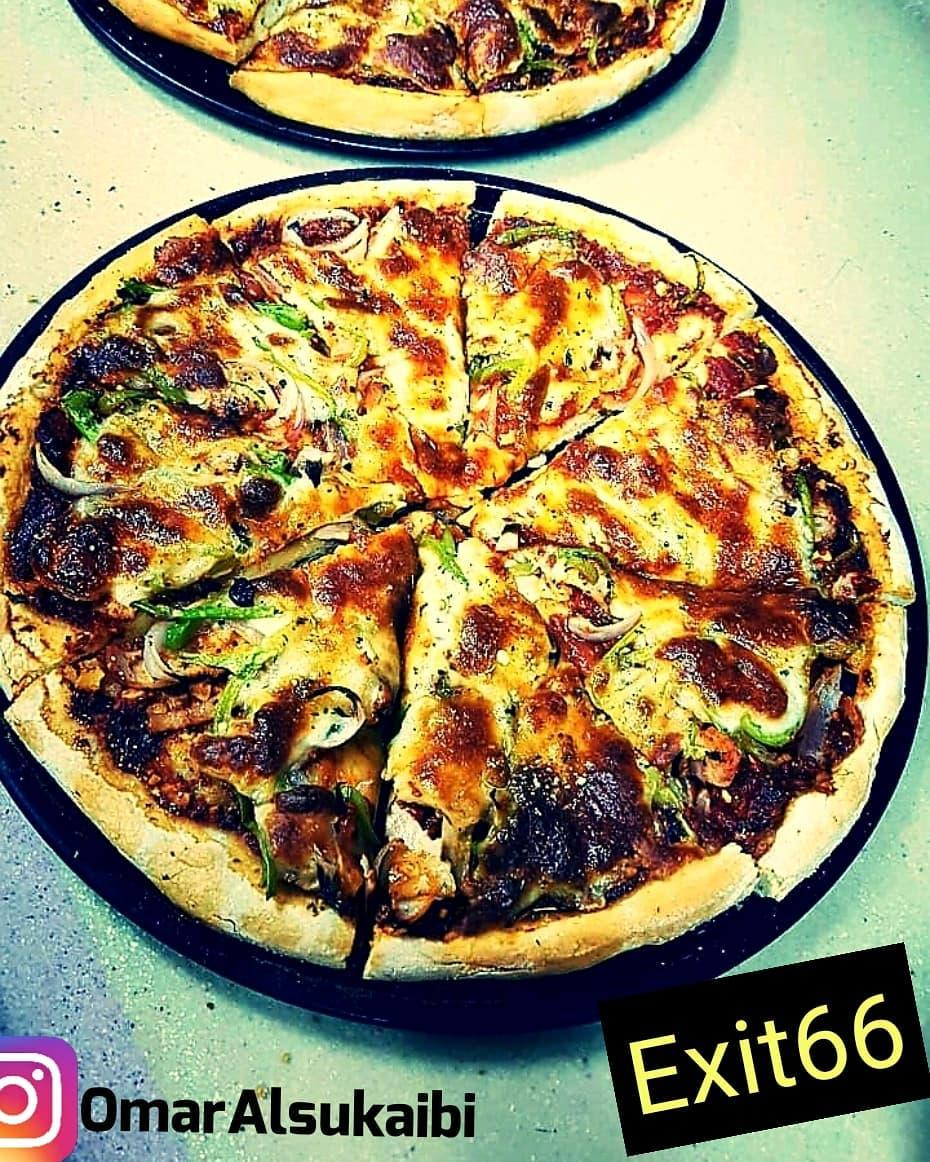Peppers: (723, 655, 819, 739), (59, 383, 188, 442), (143, 591, 271, 650), (193, 637, 275, 723), (259, 293, 334, 340), (471, 335, 526, 380), (417, 527, 462, 571)
Pizza: (5, 179, 920, 986), (99, 0, 716, 141)
